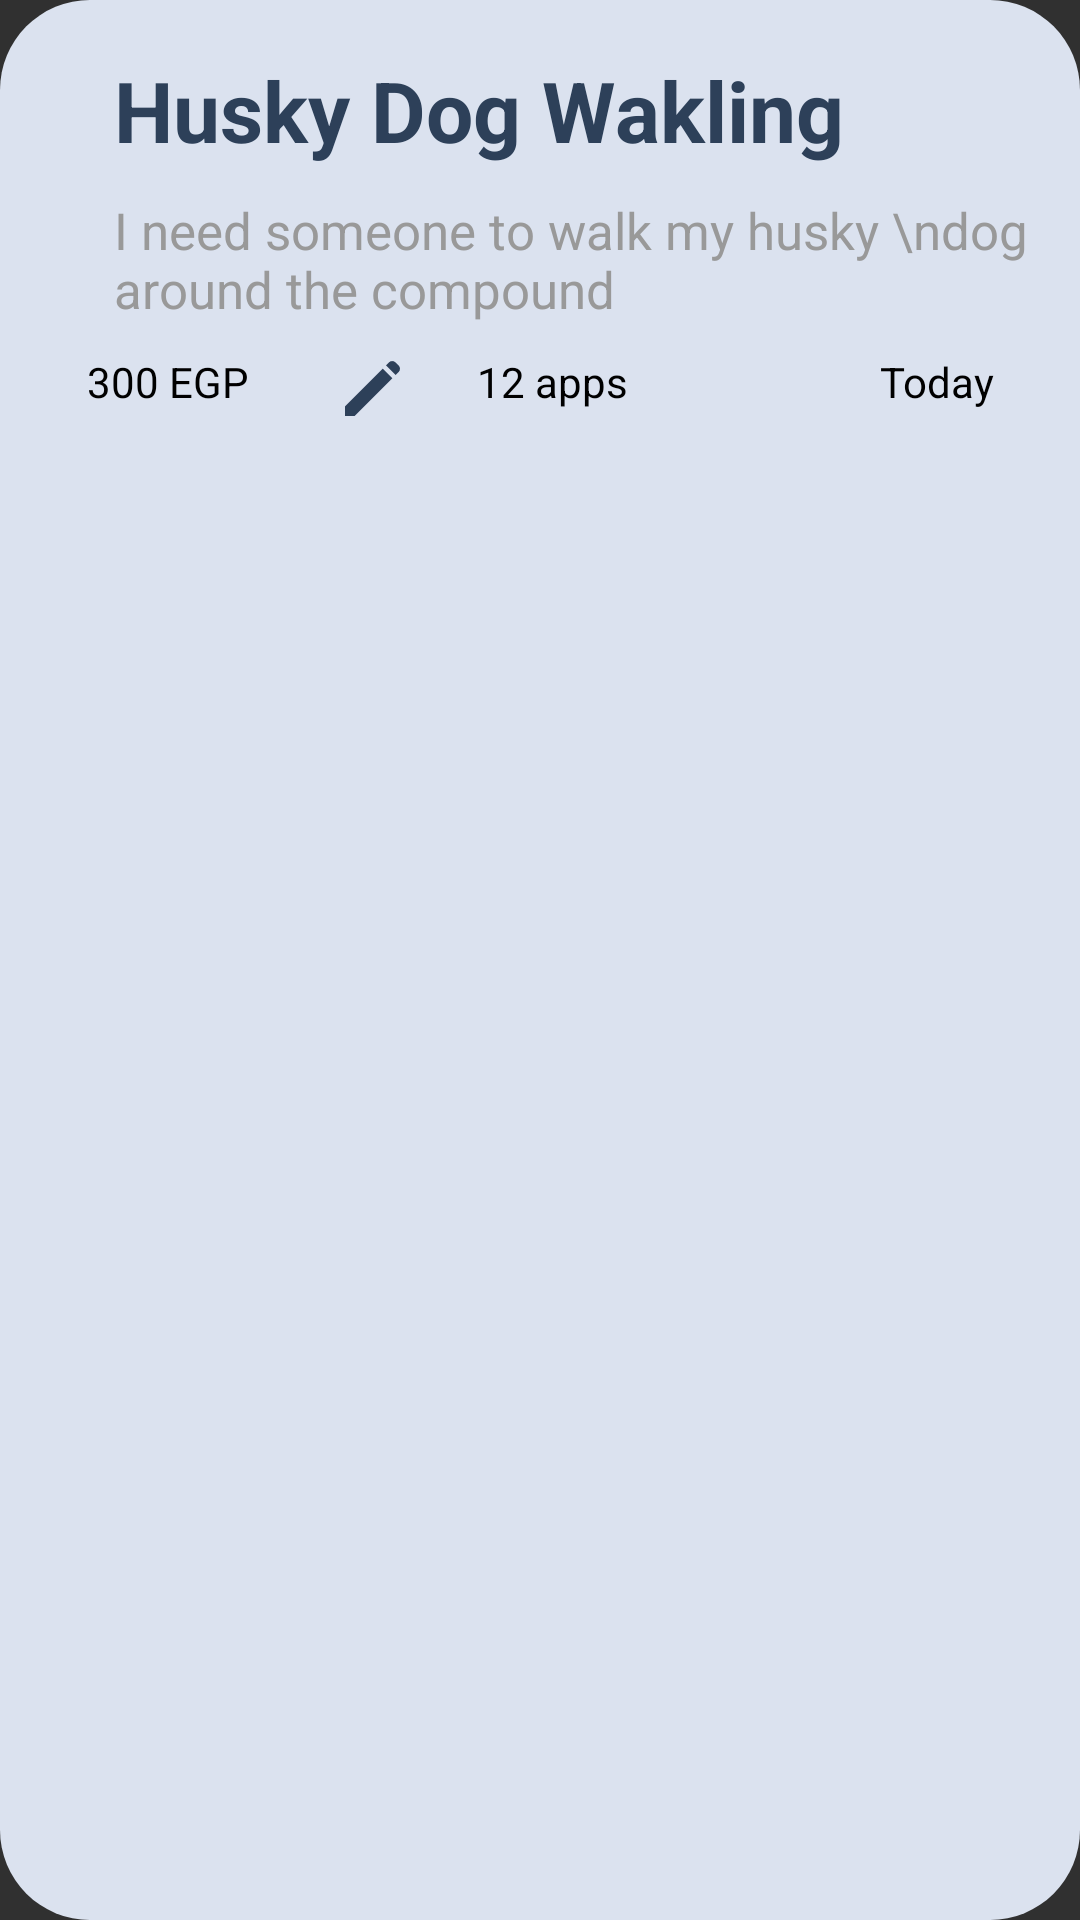

Screen size 1080px x 1920px. Icon name, then its center in pixels as point (x, y):
pencil: point (372, 388)
